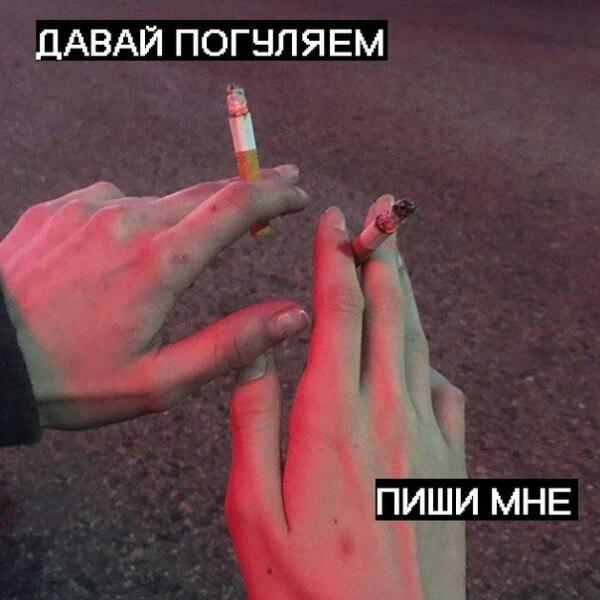cigarette: (226, 81, 271, 236), (351, 197, 418, 268)
